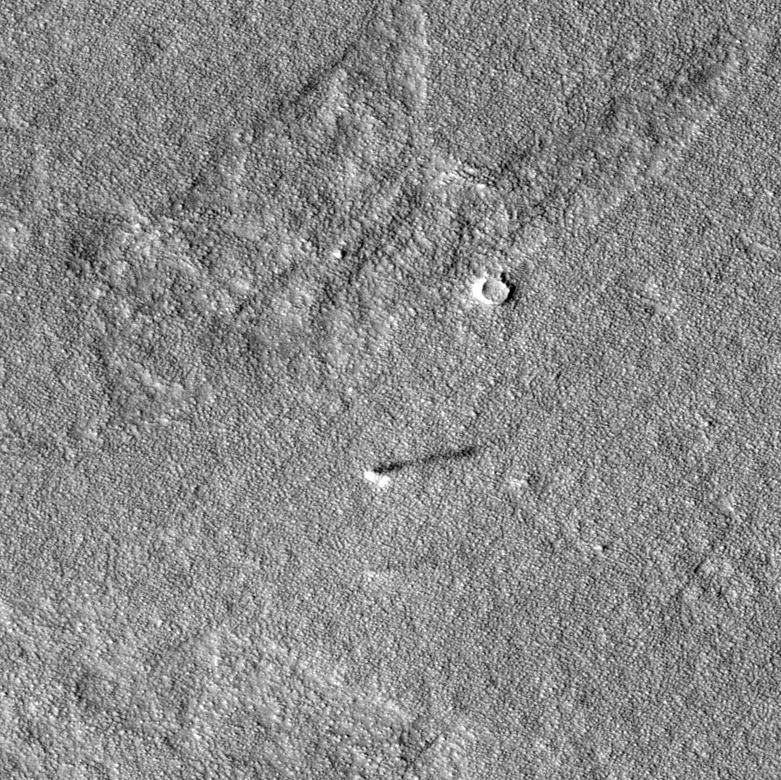dust_devil: (361, 443, 481, 489)
